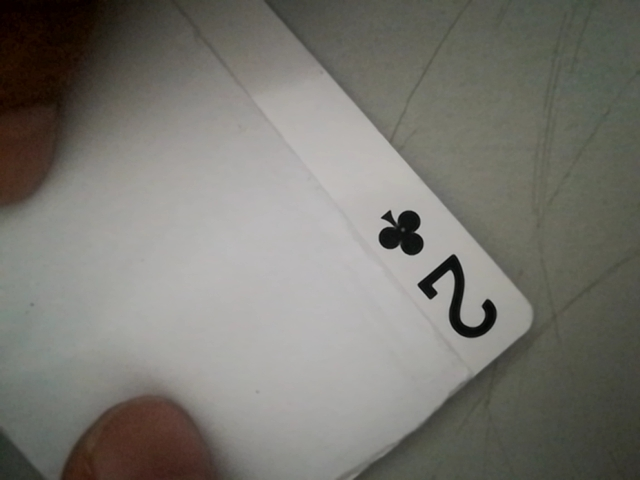mh 2: (360, 197, 506, 357)
